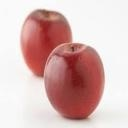apple: (19, 9, 73, 79)
